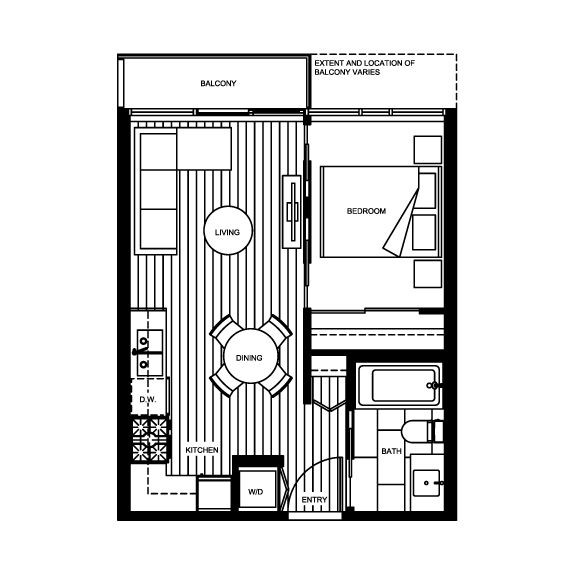door: (280, 444, 349, 523)
room: (123, 106, 297, 515), (308, 107, 451, 351), (304, 311, 452, 519)
wall: (110, 106, 137, 523), (438, 101, 464, 528), (115, 504, 291, 531), (301, 340, 462, 368), (341, 503, 457, 527), (296, 307, 320, 408), (337, 347, 362, 411), (418, 299, 461, 318)
window: (190, 100, 309, 123)
